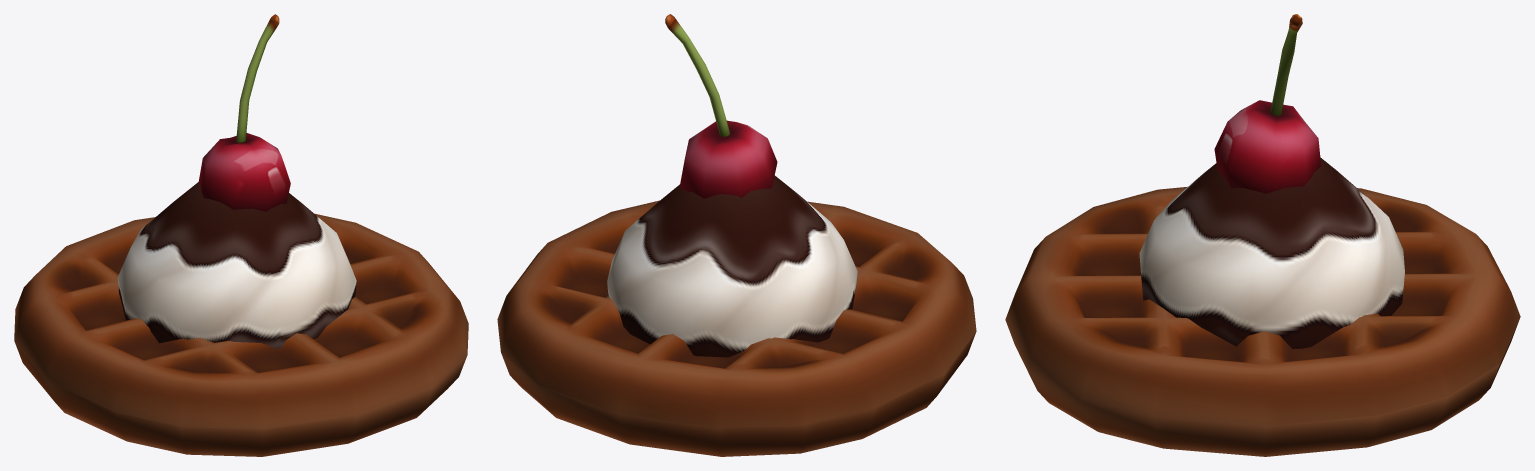
The model's file is 009-Waffles04.FBX.
3 views of the same model, side by side, from view 1: azimuth 30°, elevation 25°; view 2: azimuth 150°, elevation 25°; view 3: azimuth 270°, elevation 25° (orthographic). The views are drawn at different scales.
Parts seen in each view (by area): view 1: 009-Waffles04; view 2: 009-Waffles04; view 3: 009-Waffles04.
Part boxes in pixels (x1,y1,x2,y2): 009-Waffles04: (14, 14, 468, 456); 009-Waffles04: (497, 14, 976, 456); 009-Waffles04: (1005, 14, 1520, 456).
Bounding box in the file's own units: 18.5 × 15.03 × 18.75.
